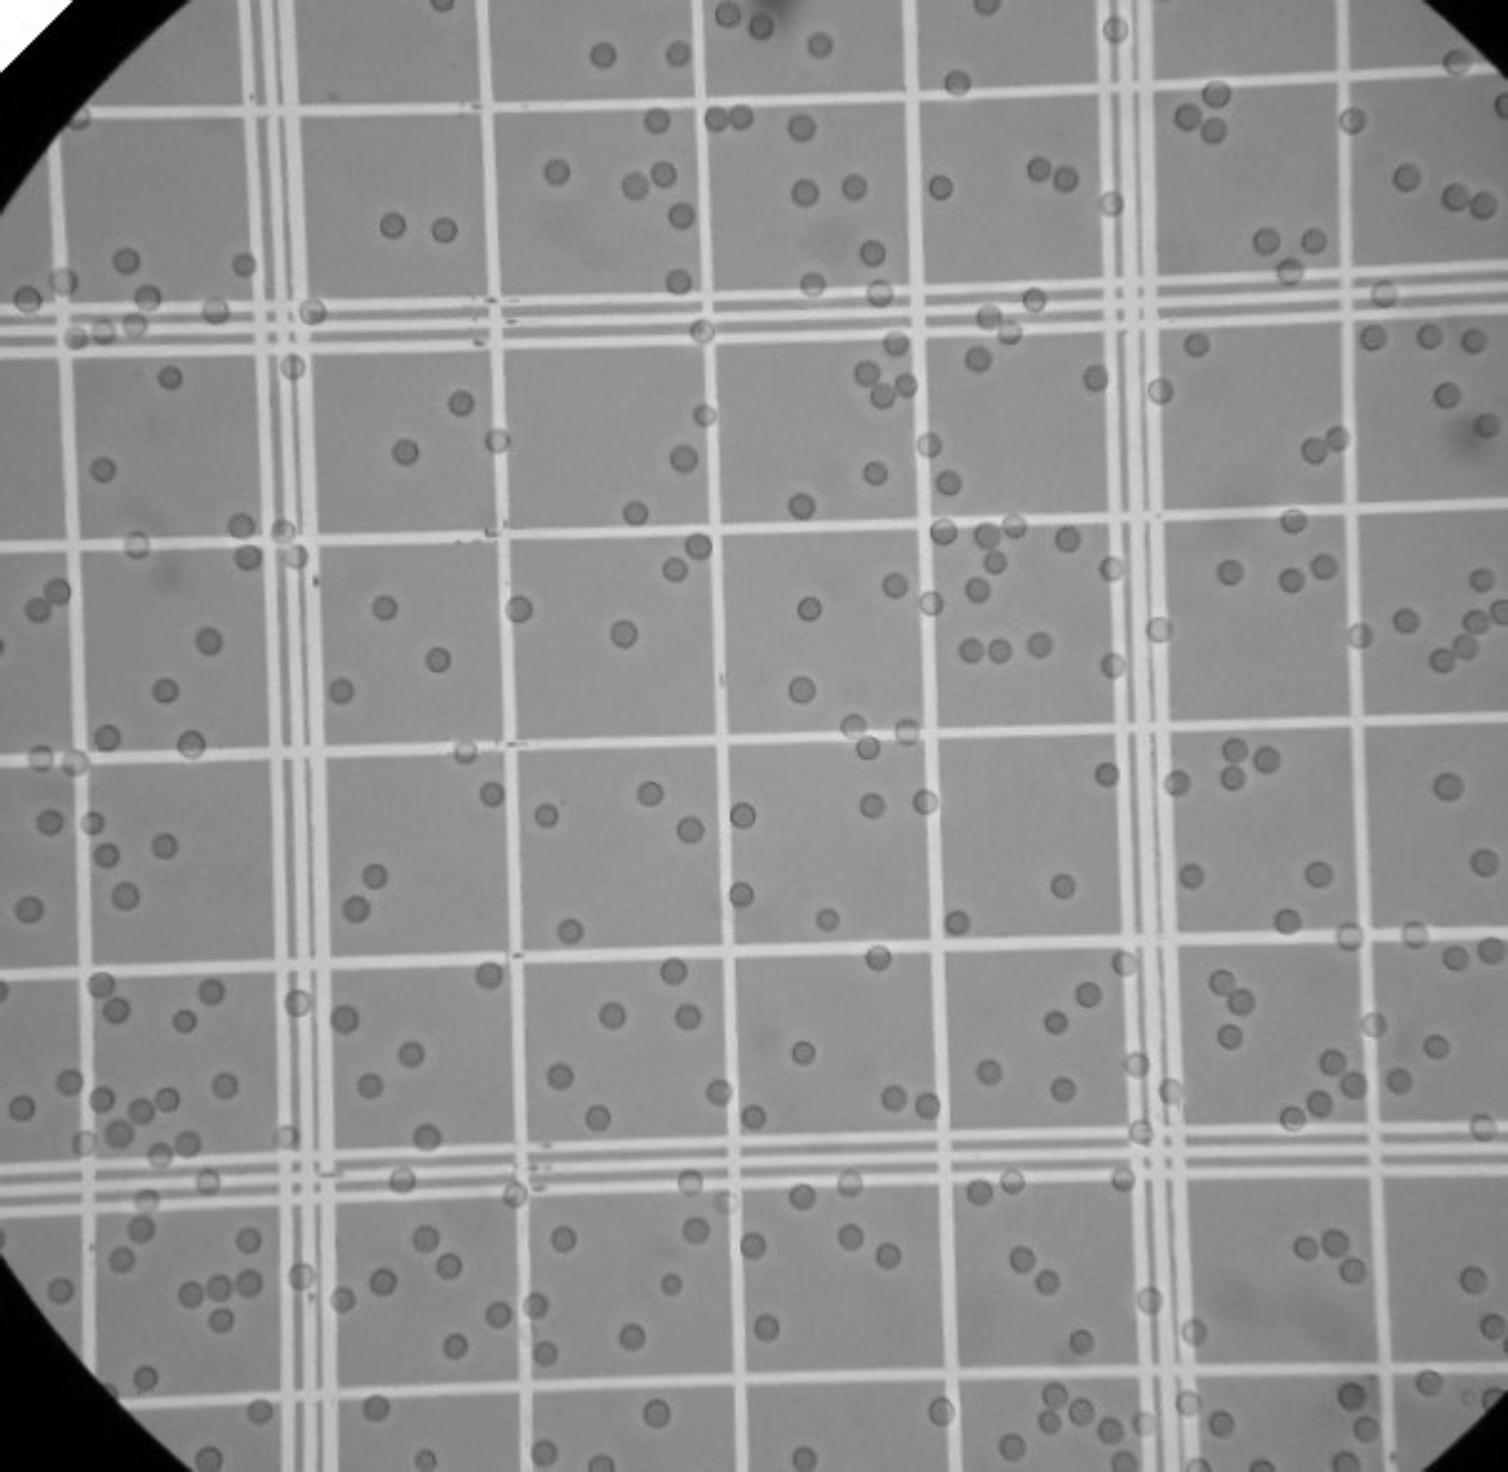cell: (49, 266, 80, 297), (111, 245, 142, 276), (175, 729, 206, 760), (1433, 772, 1465, 802), (1203, 75, 1233, 106), (1172, 102, 1203, 132), (1199, 115, 1230, 144), (1145, 615, 1176, 644), (1336, 919, 1365, 950), (1477, 936, 1507, 967), (329, 1004, 357, 1037), (1253, 744, 1282, 776), (203, 1272, 233, 1302), (660, 957, 690, 987), (1252, 226, 1282, 256), (1337, 1382, 1366, 1411), (1321, 1229, 1350, 1259), (1470, 848, 1500, 878), (389, 437, 420, 465), (474, 961, 505, 989), (1305, 860, 1336, 888), (1274, 907, 1305, 936), (133, 283, 163, 311), (278, 352, 306, 381), (379, 210, 407, 240), (88, 456, 117, 484), (22, 596, 51, 624), (61, 748, 90, 776), (111, 883, 139, 913), (195, 976, 224, 1006), (125, 1216, 155, 1244), (234, 1268, 263, 1298), (670, 443, 699, 472), (1054, 524, 1082, 554), (1216, 558, 1245, 586), (1278, 1105, 1307, 1134), (15, 284, 42, 315), (929, 1395, 955, 1426), (1220, 735, 1251, 762), (299, 298, 327, 326), (430, 216, 458, 244), (598, 1002, 627, 1030), (342, 895, 371, 923), (788, 113, 817, 142), (1148, 377, 1176, 406), (1067, 1399, 1096, 1428), (195, 625, 222, 655), (44, 576, 71, 605), (150, 677, 179, 704), (93, 723, 120, 752), (15, 896, 44, 923), (84, 972, 113, 999), (105, 1119, 132, 1148), (88, 1084, 115, 1113), (326, 1286, 356, 1313), (788, 1184, 818, 1210), (943, 909, 970, 938), (543, 156, 570, 186), (1182, 332, 1212, 359), (999, 1433, 1026, 1463), (1042, 1380, 1069, 1410), (1441, 944, 1470, 971), (282, 989, 313, 1015), (447, 388, 474, 417), (123, 530, 150, 558), (150, 832, 177, 860), (210, 1073, 239, 1100), (71, 1130, 98, 1158), (398, 1041, 425, 1069), (551, 1223, 578, 1251), (415, 1123, 442, 1151), (548, 1061, 575, 1089), (558, 918, 585, 946), (363, 863, 389, 891), (327, 677, 356, 704), (505, 594, 534, 621), (678, 817, 706, 844), (788, 675, 815, 704), (664, 267, 691, 295), (623, 173, 650, 201), (867, 279, 893, 307), (977, 1058, 1004, 1086), (968, 1178, 995, 1206), (930, 518, 958, 545), (964, 345, 991, 373), (1300, 226, 1329, 253), (1082, 363, 1109, 391), (1207, 1410, 1234, 1438), (1416, 1370, 1445, 1397), (1340, 1259, 1368, 1286), (1458, 1264, 1485, 1293), (1110, 950, 1139, 977), (1395, 163, 1422, 191), (1392, 607, 1420, 634), (1464, 609, 1490, 638), (1402, 919, 1428, 948), (1422, 1033, 1450, 1060), (1478, 1313, 1507, 1340), (34, 810, 63, 836), (287, 1264, 317, 1290), (643, 1399, 668, 1429), (1011, 1246, 1036, 1275), (1073, 981, 1102, 1007), (1279, 508, 1309, 534), (202, 297, 229, 324), (226, 512, 253, 539), (93, 842, 120, 869), (127, 1099, 154, 1126), (57, 1068, 84, 1095), (106, 1248, 133, 1275), (46, 1278, 73, 1305), (234, 1227, 261, 1254), (177, 1281, 203, 1308), (131, 1366, 158, 1392), (363, 1394, 389, 1421), (369, 1267, 396, 1294), (530, 1440, 557, 1467), (503, 1179, 530, 1206), (675, 1169, 702, 1196), (740, 1233, 767, 1260), (534, 802, 561, 829), (915, 1093, 942, 1120), (912, 789, 939, 816), (610, 620, 637, 647), (792, 179, 819, 206), (800, 271, 827, 298), (974, 522, 1001, 549), (1276, 257, 1303, 284), (1100, 652, 1127, 679), (1313, 554, 1340, 581), (1325, 425, 1352, 452), (1340, 106, 1366, 133), (1443, 49, 1470, 75), (1433, 381, 1459, 408), (1348, 623, 1375, 650), (1220, 766, 1247, 793), (1387, 1068, 1414, 1095), (1341, 1072, 1368, 1099), (1470, 1113, 1497, 1140), (412, 1224, 438, 1252), (755, 1314, 780, 1343), (453, 737, 478, 766), (686, 532, 714, 558), (881, 330, 910, 356), (809, 31, 834, 59), (1050, 1074, 1075, 1103), (1124, 1051, 1152, 1077), (1050, 871, 1075, 899), (1026, 632, 1054, 658), (1468, 568, 1496, 593), (1163, 768, 1191, 794), (131, 1190, 160, 1215), (838, 1169, 862, 1198), (1331, 1450, 1364, 1472), (270, 519, 296, 545), (357, 1072, 383, 1099), (147, 1140, 172, 1167), (194, 1170, 221, 1196), (208, 1308, 234, 1333), (194, 1446, 221, 1472), (438, 1254, 464, 1281), (522, 1293, 548, 1318), (585, 1103, 610, 1130), (876, 1243, 902, 1270), (426, 647, 451, 674), (881, 1086, 907, 1113), (867, 945, 892, 972), (729, 882, 755, 909), (690, 317, 716, 344), (668, 202, 694, 229), (651, 160, 677, 187), (646, 106, 671, 133), (748, 12, 774, 39), (946, 70, 972, 97), (999, 1167, 1024, 1194), (881, 572, 907, 599), (862, 460, 889, 485), (1098, 1417, 1124, 1444), (1278, 568, 1305, 593), (1300, 435, 1326, 462), (1360, 324, 1385, 350), (1451, 635, 1478, 661), (1207, 968, 1234, 993), (1228, 989, 1255, 1015), (1217, 1024, 1243, 1051), (1361, 1010, 1387, 1037), (619, 1322, 643, 1351), (682, 1217, 710, 1241), (788, 493, 817, 518), (915, 433, 943, 457), (1104, 16, 1128, 44), (1131, 1411, 1159, 1436), (1098, 555, 1127, 580), (1427, 648, 1455, 673), (80, 809, 105, 834), (9, 1096, 35, 1122), (247, 1398, 272, 1423), (389, 1166, 415, 1192), (480, 780, 505, 806), (637, 782, 663, 807), (895, 718, 920, 744), (663, 557, 689, 582), (964, 577, 989, 603), (1036, 1270, 1062, 1295), (1071, 1330, 1097, 1356), (1353, 1415, 1379, 1441), (1294, 1235, 1319, 1260), (1158, 1077, 1183, 1103), (1179, 863, 1205, 888), (1319, 1049, 1345, 1074), (283, 545, 309, 570), (119, 313, 146, 337), (155, 365, 182, 390), (28, 744, 53, 771), (156, 1088, 181, 1115), (443, 1333, 468, 1360), (791, 1446, 818, 1471), (237, 545, 261, 572), (730, 801, 755, 828), (860, 791, 884, 818), (840, 713, 867, 737), (623, 500, 650, 524), (730, 102, 755, 129), (861, 239, 885, 266), (989, 638, 1013, 665), (1137, 1289, 1164, 1313), (1183, 1318, 1207, 1345), (1462, 328, 1486, 355), (1309, 1091, 1333, 1117), (703, 102, 726, 131), (92, 318, 116, 344), (485, 427, 509, 453), (102, 998, 127, 1023), (486, 1304, 511, 1329), (675, 1004, 701, 1029), (373, 594, 398, 620), (856, 735, 880, 760), (798, 596, 823, 620), (590, 40, 615, 66), (842, 175, 868, 200), (929, 175, 954, 200), (714, 1, 740, 26), (958, 638, 982, 663), (920, 590, 945, 616), (937, 469, 962, 493), (1023, 287, 1048, 311), (1036, 1411, 1062, 1436), (1176, 1390, 1202, 1414), (1112, 1166, 1136, 1192), (1129, 1119, 1154, 1144), (1043, 1011, 1069, 1035), (1371, 280, 1395, 306), (1419, 324, 1443, 349), (1472, 191, 1496, 217), (230, 253, 257, 276), (840, 1224, 862, 1251), (668, 40, 691, 67), (871, 383, 893, 410), (1003, 514, 1026, 541), (1445, 183, 1468, 210), (61, 326, 85, 350), (175, 1132, 199, 1157), (708, 1081, 732, 1105), (791, 1041, 815, 1065), (895, 373, 919, 398), (1098, 191, 1123, 216), (1096, 762, 1120, 786), (172, 1010, 195, 1035), (534, 1341, 557, 1367), (744, 1104, 767, 1130), (999, 321, 1022, 346), (1476, 412, 1499, 438), (1110, 1450, 1137, 1472), (586, 1452, 615, 1472), (1489, 597, 1508, 627), (274, 1126, 298, 1148), (817, 907, 840, 931), (854, 361, 877, 386), (976, 306, 1000, 329), (1028, 158, 1051, 182), (985, 550, 1007, 576), (1055, 164, 1075, 191), (660, 1272, 685, 1294), (693, 403, 717, 425), (415, 1449, 437, 1471), (1493, 92, 1508, 119), (970, 1, 1001, 13), (430, 1, 457, 15)
